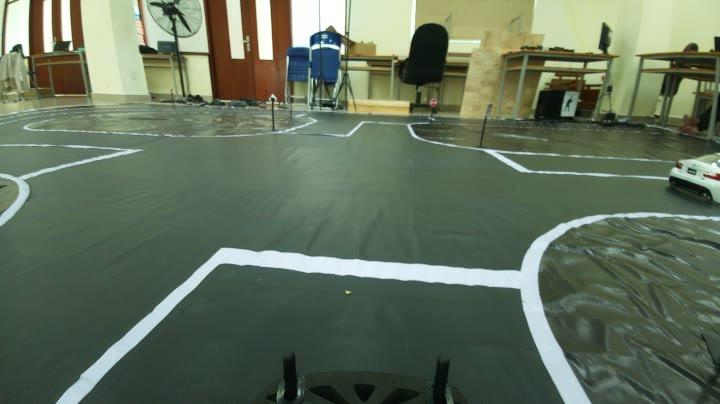car: (666, 151, 720, 201)
